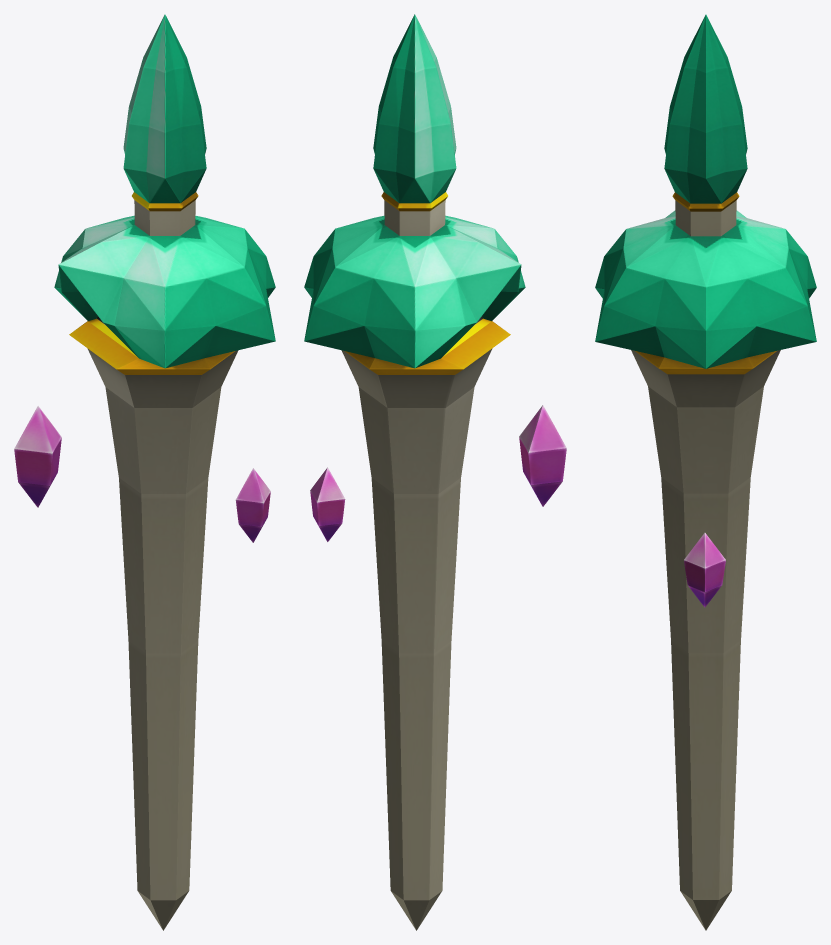
Rendered from LiaoWangTa.FBX.
3 renders of one model, left to right at view 1: azimuth 30°, elevation 25°; view 2: azimuth 150°, elevation 25°; view 3: azimuth 270°, elevation 25°, orthographic.
Visible parts, largest first — view 1: LiaoWangTa, crystal_L, crystal_s; view 2: LiaoWangTa, crystal_L, crystal_s; view 3: LiaoWangTa, crystal_s.
Part boxes in pixels (x1=…): LiaoWangTa: x1=54, y1=14, x2=275, y2=930; crystal_L: x1=14, y1=406, x2=61, y2=507; crystal_s: x1=235, y1=468, x2=270, y2=542; LiaoWangTa: x1=304, y1=14, x2=525, y2=930; crystal_L: x1=519, y1=405, x2=566, y2=506; crystal_s: x1=310, y1=467, x2=345, y2=541; LiaoWangTa: x1=595, y1=14, x2=816, y2=930; crystal_s: x1=684, y1=532, x2=725, y2=607.
Bounding box in the file's own units: 276 × 923 × 202.
